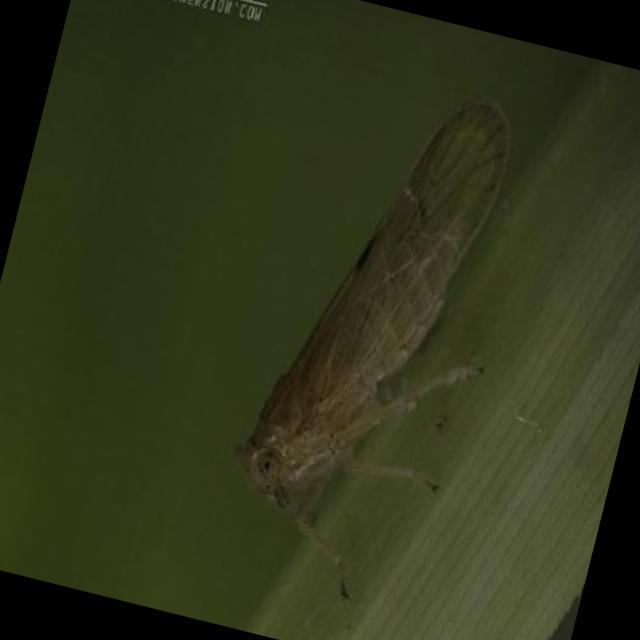brown-planthopper: (217, 55, 538, 568)
